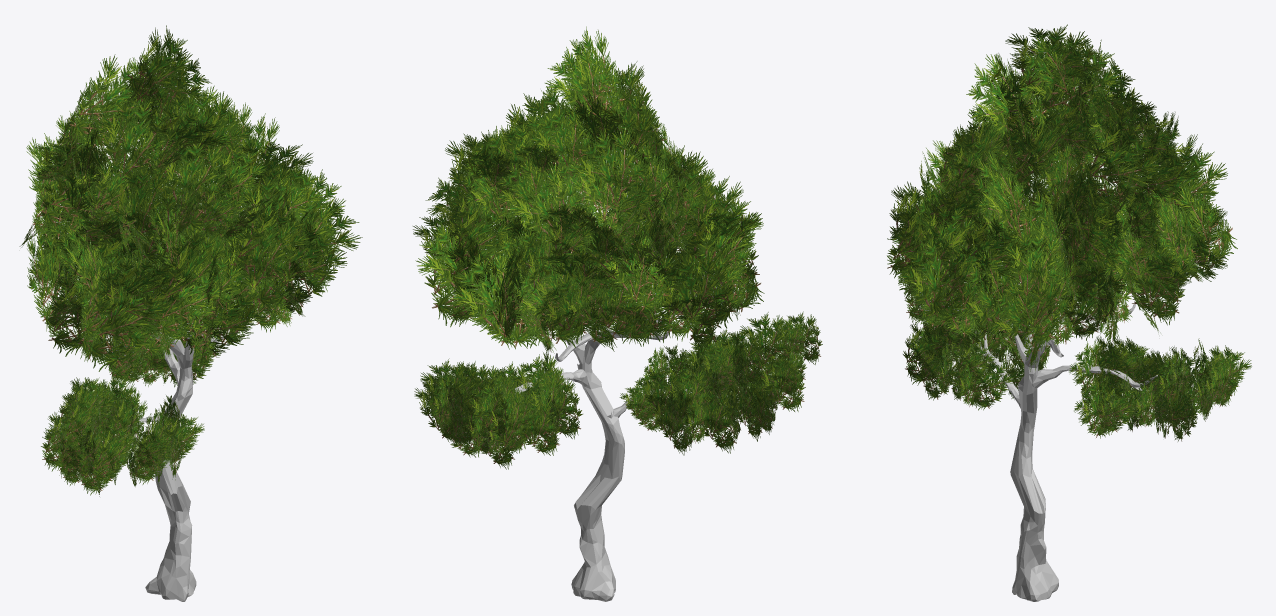
Rendered from PinusPinaster.fbx.
The picture shows the model from 3 angles, left to right: view 1: azimuth 30°, elevation 25°; view 2: azimuth 150°, elevation 25°; view 3: azimuth 270°, elevation 25°; orthographic projection. The views are drawn at different scales.
Visible parts, largest first — view 1: PinusPinaster_LOD0; view 2: PinusPinaster_LOD0; view 3: PinusPinaster_LOD0.
Part boxes in pixels (<box>): PinusPinaster_LOD0: <box>19,25,362,601</box>; PinusPinaster_LOD0: <box>413,26,822,601</box>; PinusPinaster_LOD0: <box>887,24,1251,601</box>.
Size of what is drawn, in the model's own units: 32.52 by 51.2 by 31.49.
